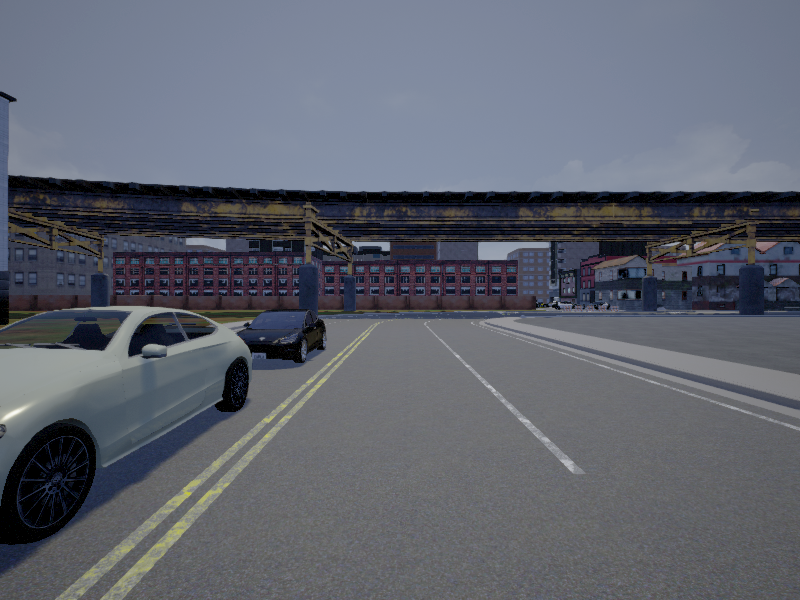Benign: (1, 306, 251, 546), (234, 311, 326, 363)
